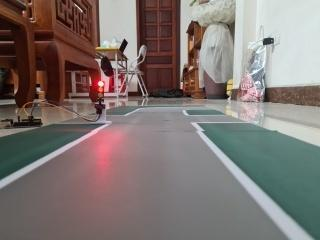red: (90, 77, 109, 112)
